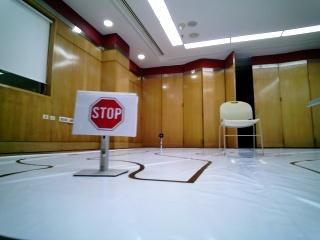stop: (81, 89, 127, 134)
